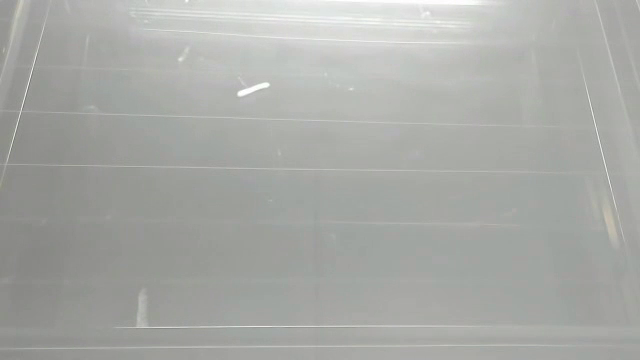alpha: (131, 285, 161, 333), (232, 79, 275, 100)
